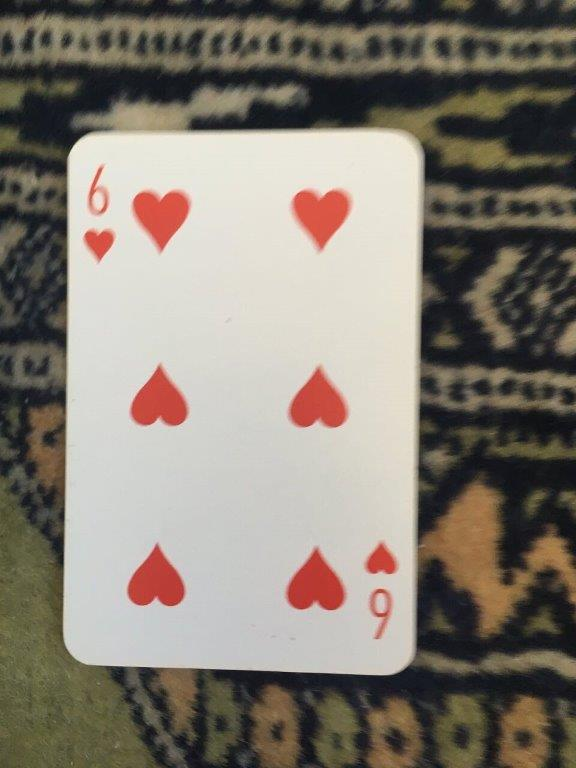6H: (58, 123, 428, 679)
